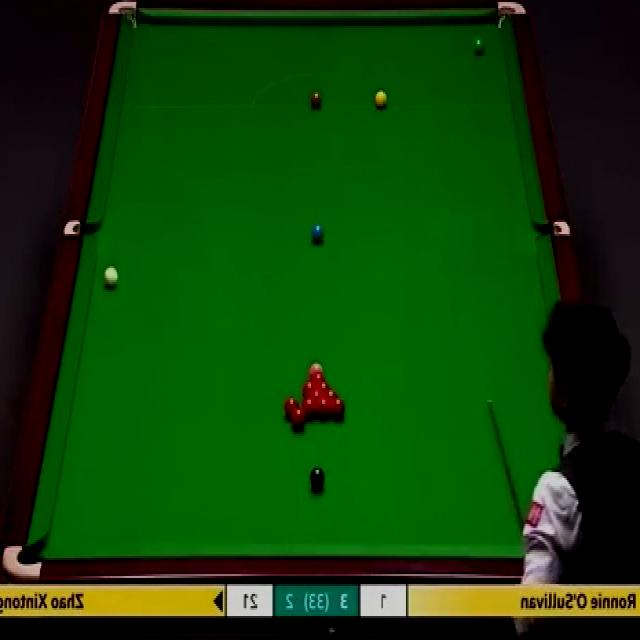black-ball: (310, 467, 325, 494)
blue-ball: (311, 223, 326, 246)
brown-ball: (310, 88, 323, 110)
green-ball: (472, 37, 486, 56)
pink-ball: (309, 360, 323, 376)
red-ball: (283, 395, 298, 421), (290, 406, 306, 430), (302, 397, 316, 421), (332, 398, 345, 421), (318, 396, 331, 419), (301, 380, 316, 396), (315, 379, 331, 390), (307, 388, 324, 398), (323, 387, 338, 397), (309, 373, 325, 382)
white-ball: (102, 264, 120, 291)
yellow-ball: (374, 88, 388, 110)
